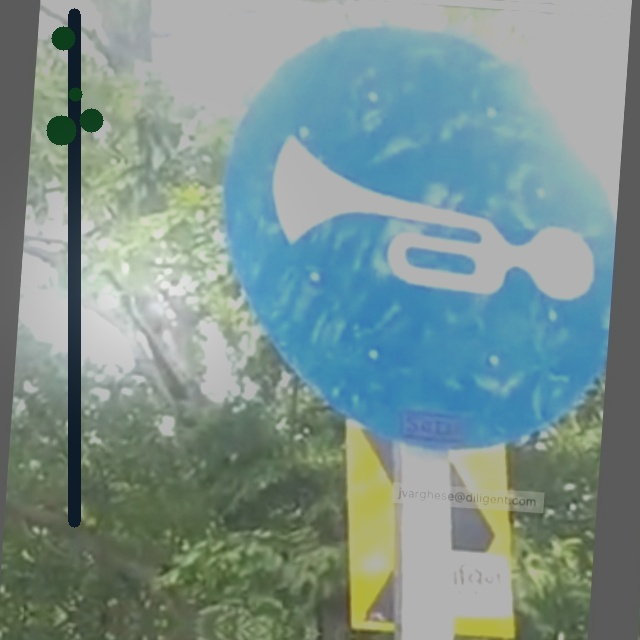Compulsory_Sound_Horn: (224, 61, 614, 410)
